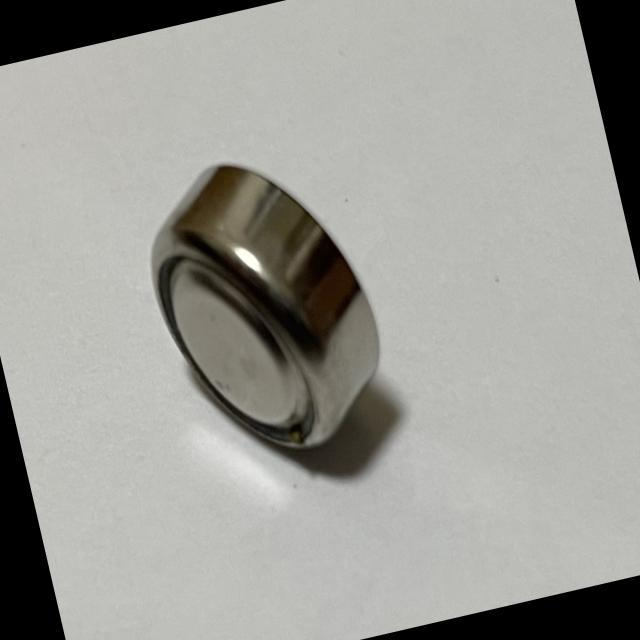COIN: (127, 134, 406, 481)
